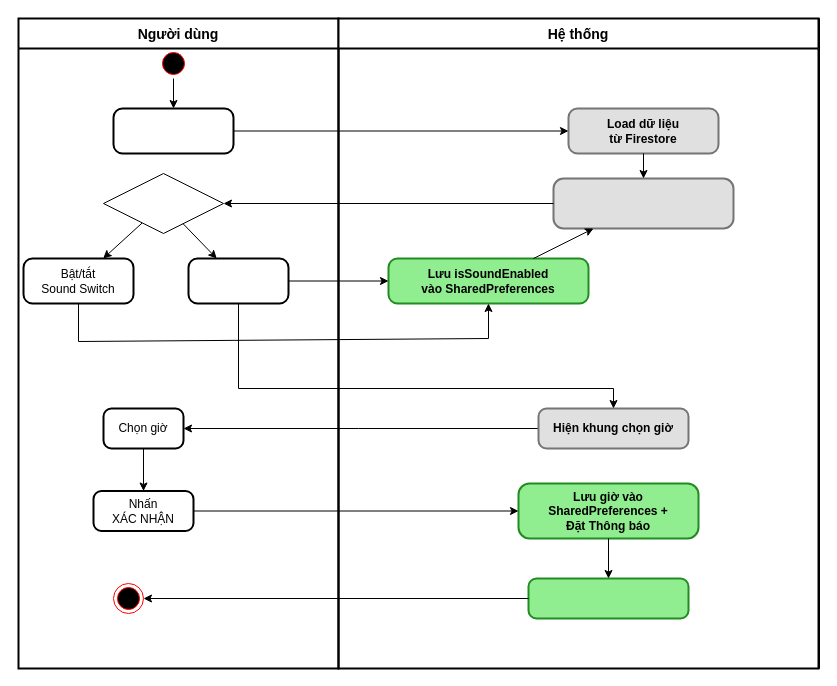
Some shapes in this 837 by 686 pixel diagram are drawn without their labels. The shapes that lost their labels are listed below. From the top down, each one's centre as x and y in pixels, then its label:
pixel 173 130: Nhấn icon HỒ SƠ
pixel 163 203: Người dùng chọn
pixel 643 203: Hiển thị Settings (Sound, Reminder)
pixel 238 280: Nhấn Nhắc nhở
pixel 608 598: Hiện SnackBar "Đã đặt nhắc nhở..."
